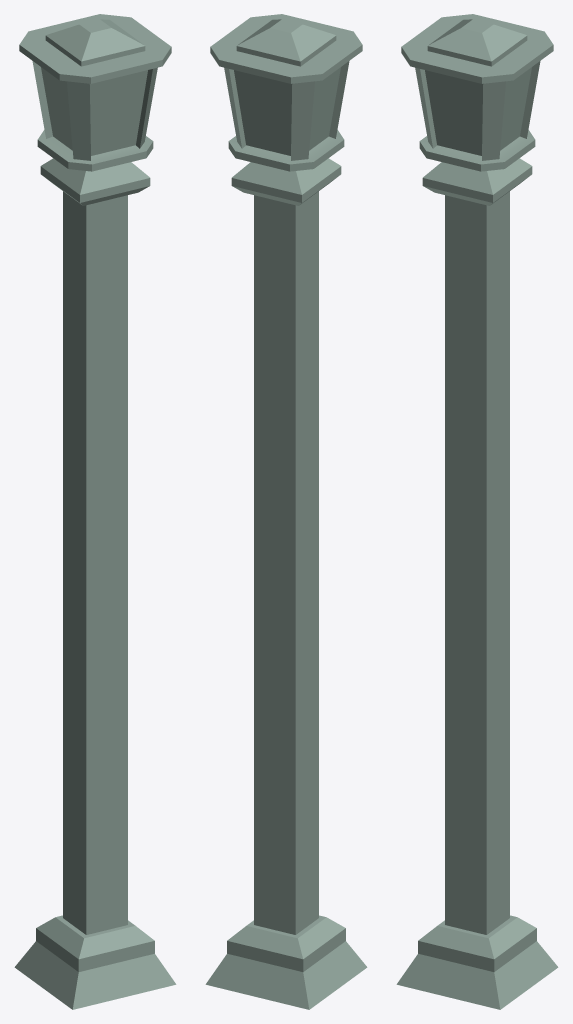
The model's file is lampara.fbx.
The picture shows the model from 3 angles, left to right: view 1: azimuth 30°, elevation 25°; view 2: azimuth 150°, elevation 25°; view 3: azimuth 330°, elevation 25°; orthographic projection.
Visible parts, largest first — view 1: pCube2; view 2: pCube2; view 3: pCube2.
Part boxes in pixels (x1,y1,x2,y2): pCube2: (14,14,176,1009); pCube2: (205,14,367,1009); pCube2: (396,14,558,1009).
Bounding box in the file's own units: 1.03 × 8.37 × 1.
